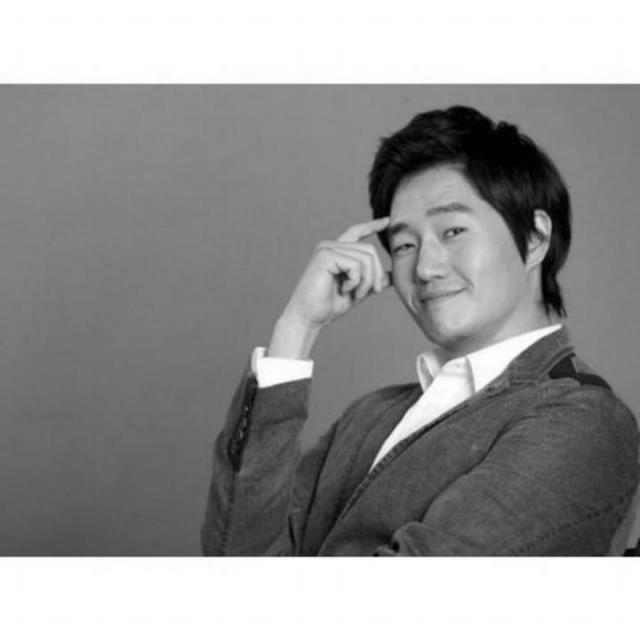real: (386, 176, 526, 342)
